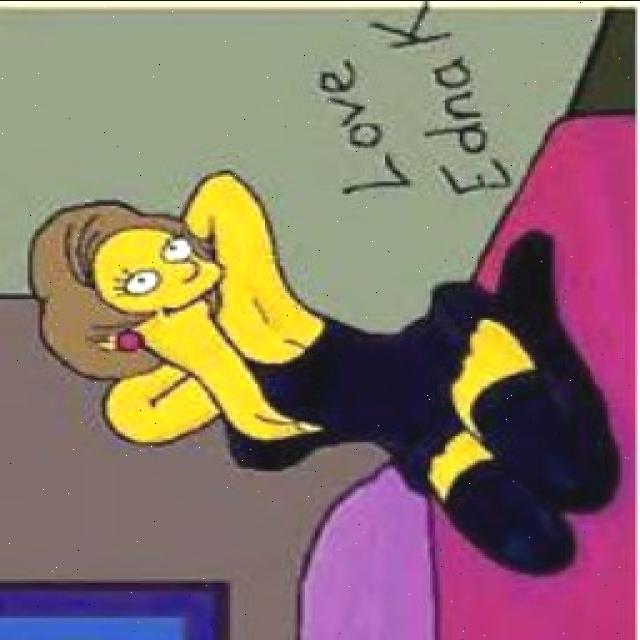Edna Krappel: (23, 202, 232, 382)
